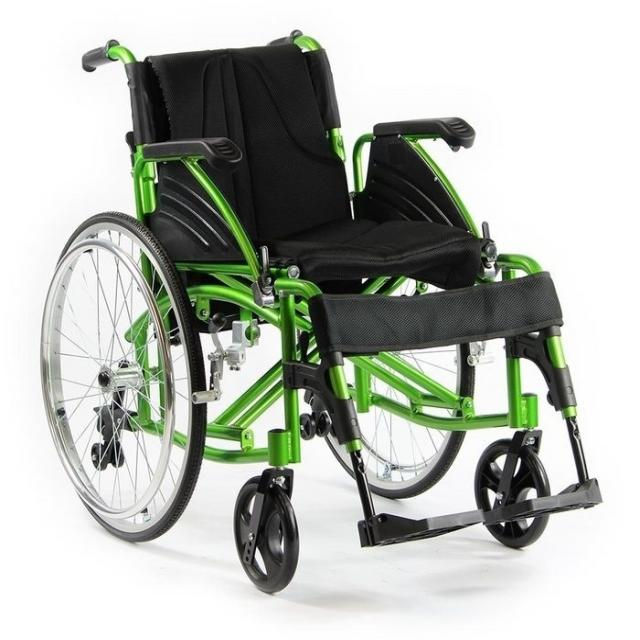wheelchair: (28, 28, 620, 600)
